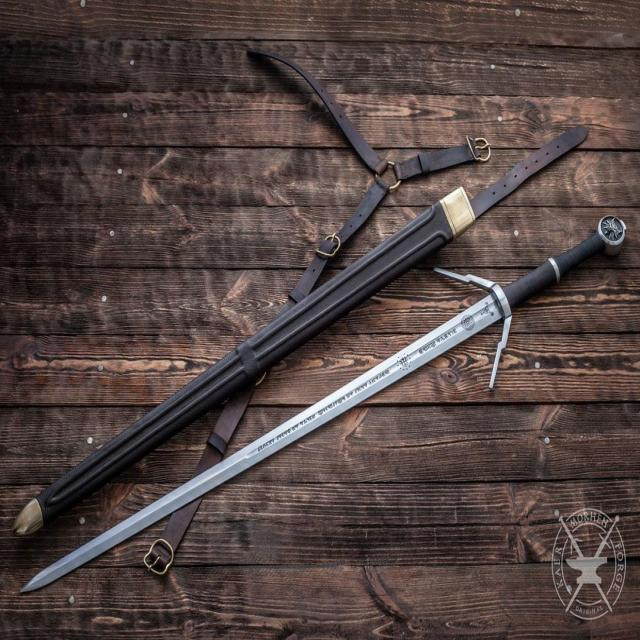weapon: (17, 202, 632, 594)
